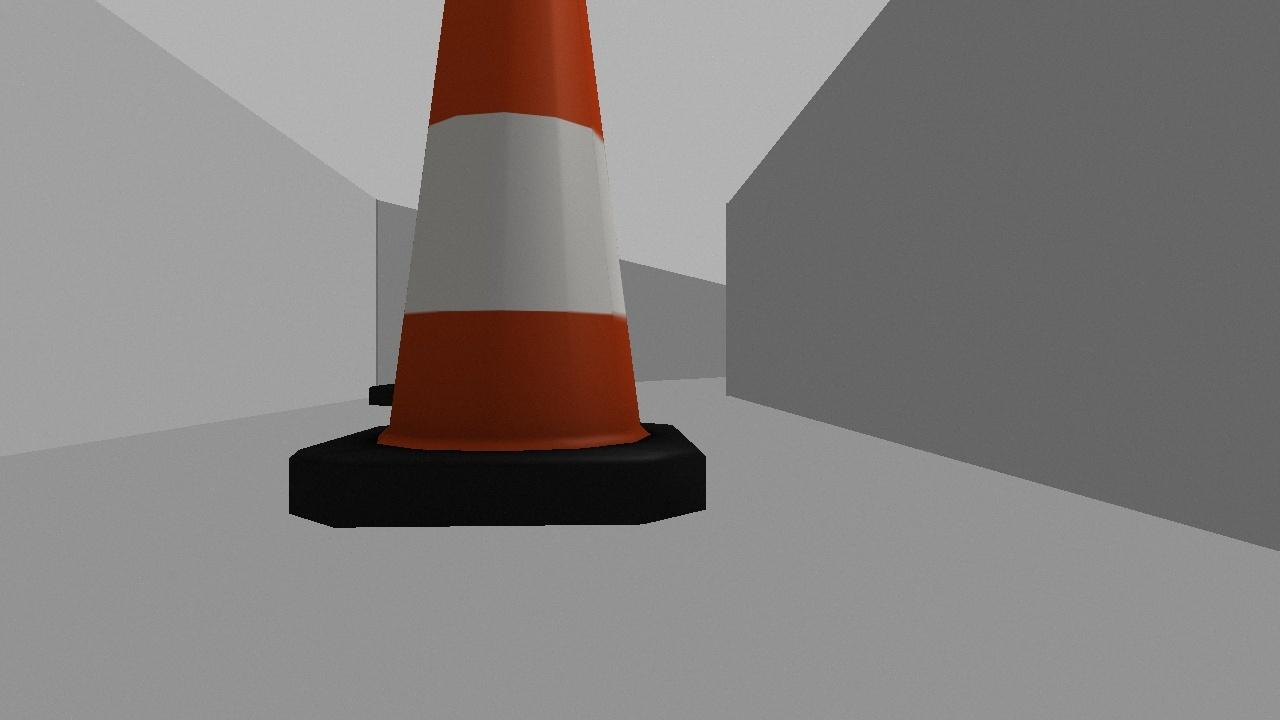cone_barrel: (200, 0, 730, 538)
